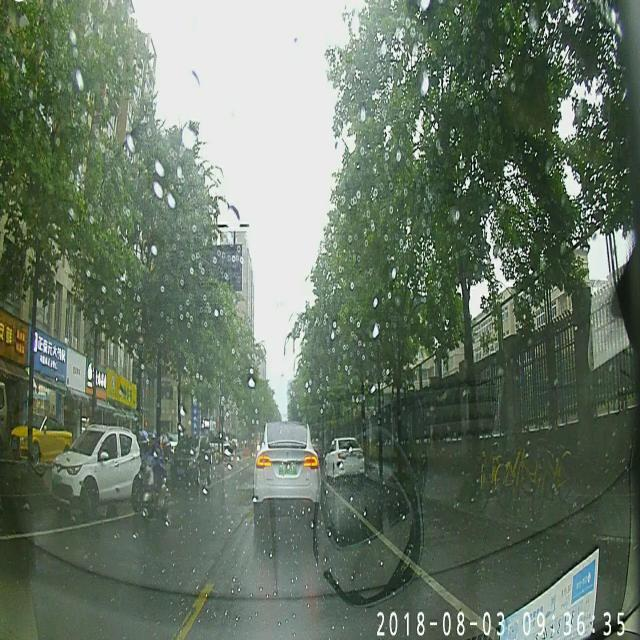car: (252, 418, 320, 524), (54, 427, 144, 503), (11, 411, 70, 458), (131, 444, 170, 514), (171, 435, 212, 490), (325, 436, 364, 485)
